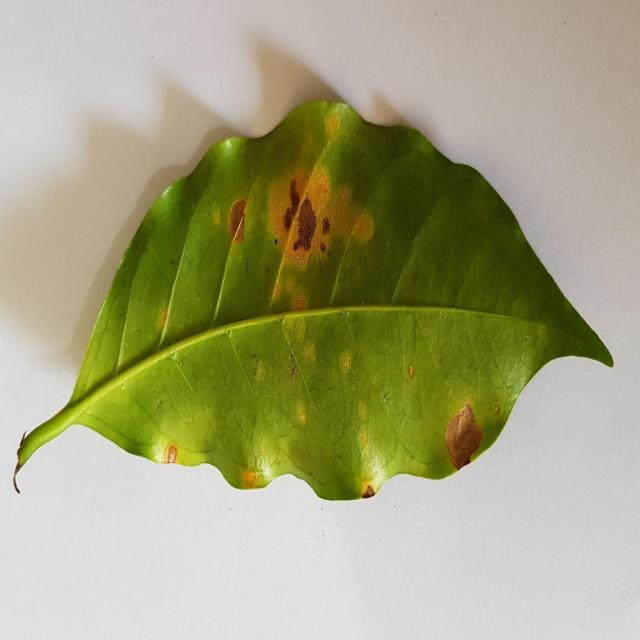Plaga-Minador: (14, 102, 614, 504)
